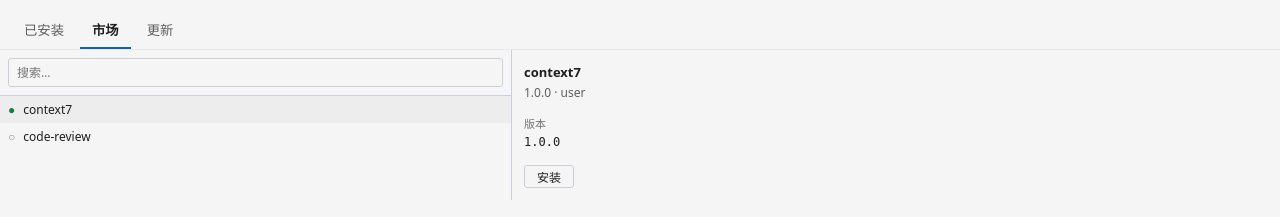
Scenario: 插件面板：市场 › 市场 tab 也提供搜索框
Type "context7" into the search field named "搜索插件市场" at (256,73), box x1=8 y1=58 x2=503 y2=87
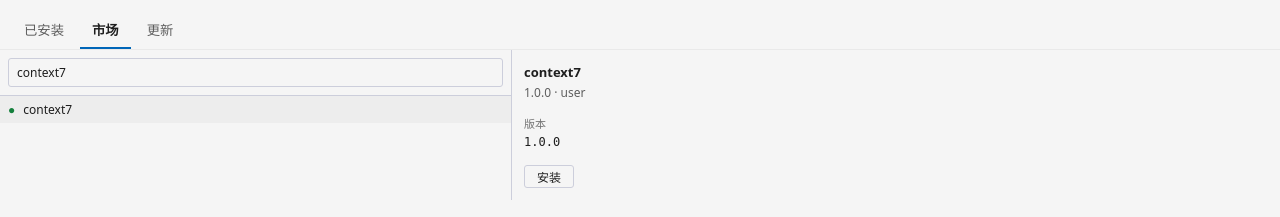
expect the 1st text "context7" is shown: met, box x1=524 y1=63 x2=581 y2=81
expect the option "code-review" is gone: met
